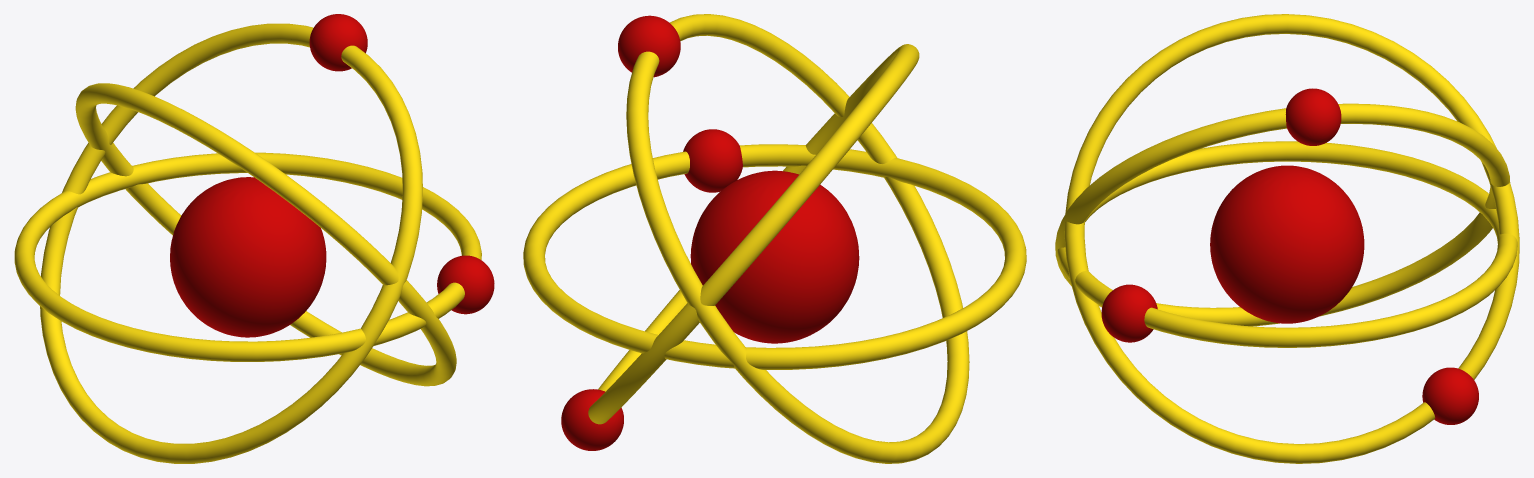
3 renders of one model, left to right at view 1: azimuth 30°, elevation 25°; view 2: azimuth 150°, elevation 25°; view 3: azimuth 270°, elevation 25°, orthographic. The views are drawn at different scales.
Parts seen in each view (by area): view 1: 537; view 2: 537; view 3: 537.
Part boxes in pixels (x1,y1,x2,y2): 537: (14, 14, 494, 463); 537: (523, 14, 1026, 463); 537: (1055, 14, 1519, 463).
Bounding box in the file's own units: 28.22 × 28.43 × 23.99.
